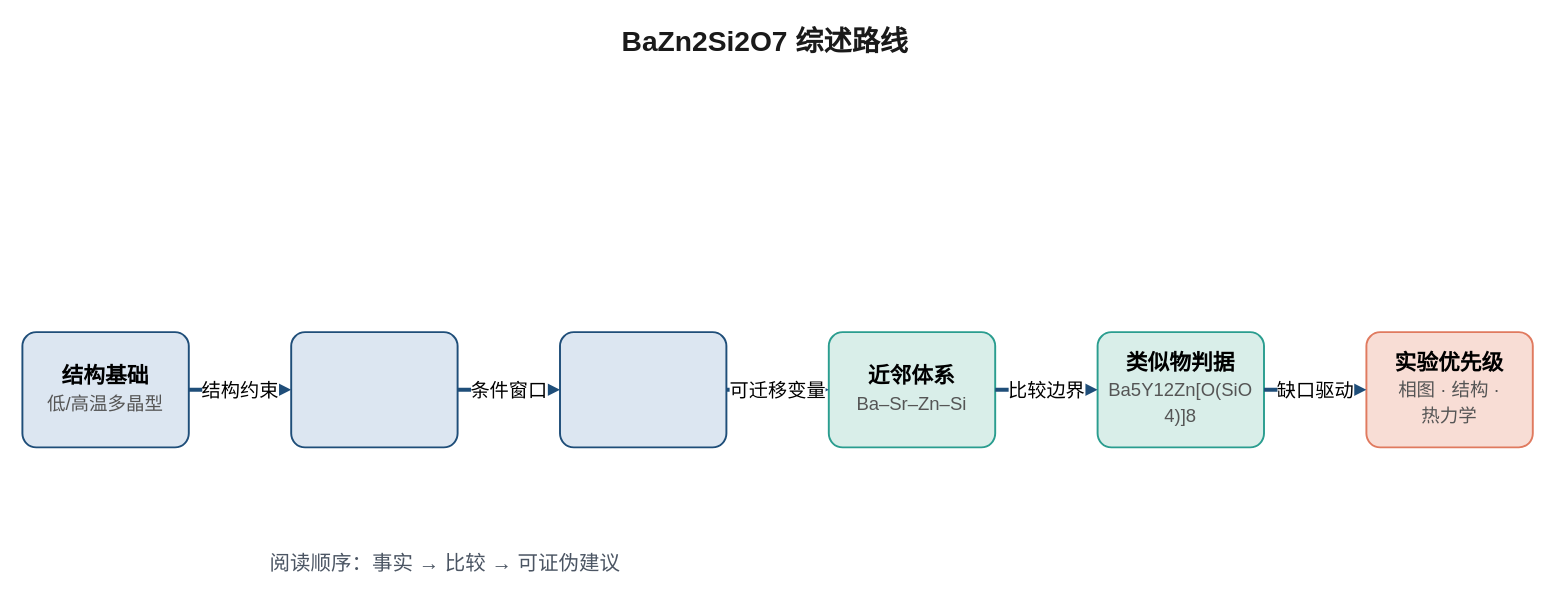
Image size: 1556x599. Some labels were removed from this diagram. The centre of each missing label's shape, as x and y in pixels:
合成路线 固相 · 溶胶—凝胶: point (374, 389)
相控制 组成 · 热处理: point (642, 389)
